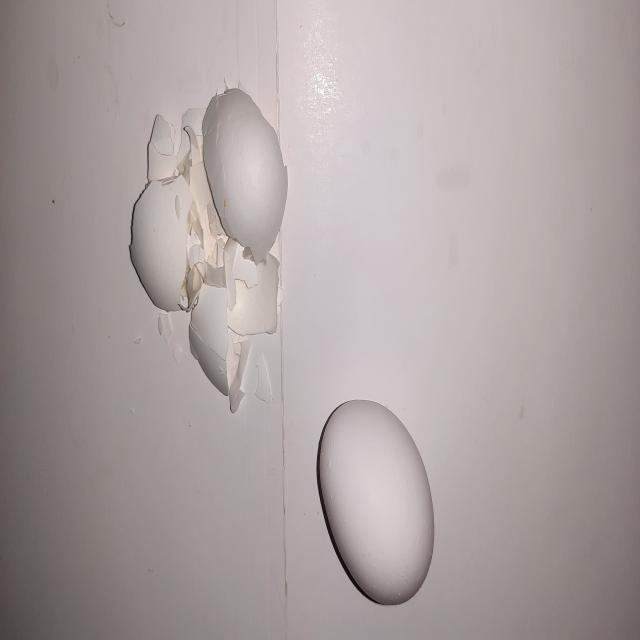egg shell: (316, 392, 438, 610), (136, 102, 220, 311), (202, 86, 296, 262), (191, 272, 260, 411), (216, 251, 286, 346)
